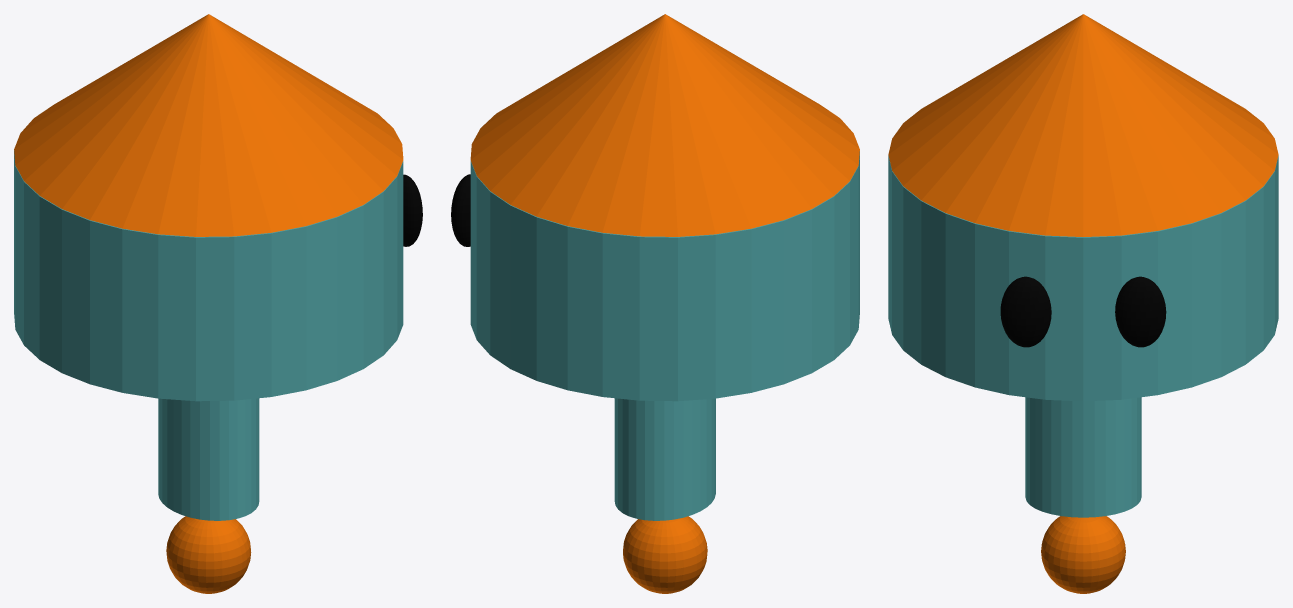
The model's file is lapicito_avatar.gltf.
The picture shows the model from 3 angles, left to right: view 1: azimuth 30°, elevation 25°; view 2: azimuth 150°, elevation 25°; view 3: azimuth 270°, elevation 25°; orthographic projection.
Parts seen in each view (by area): view 1: Cilindro.001; view 2: Cilindro.001; view 3: Cilindro.001.
Boxes of the visible parts, box(x1,y1,x2,y2) form: Cilindro.001: box(14, 14, 422, 593); Cilindro.001: box(451, 14, 859, 593); Cilindro.001: box(888, 14, 1278, 593).
Size of the model in its own units: 2.07 by 3.26 by 2.
